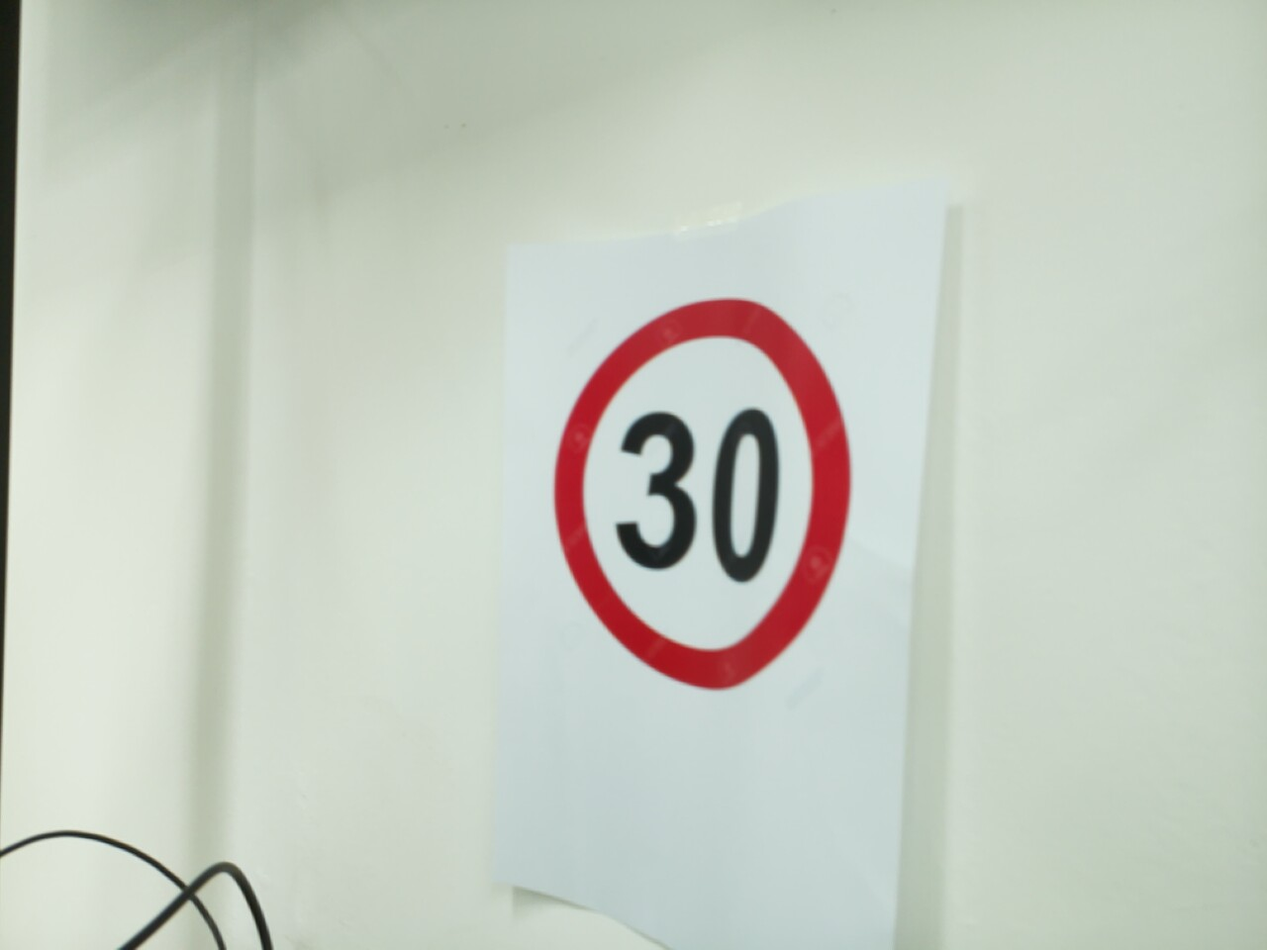speed_30: (544, 287, 860, 702)
